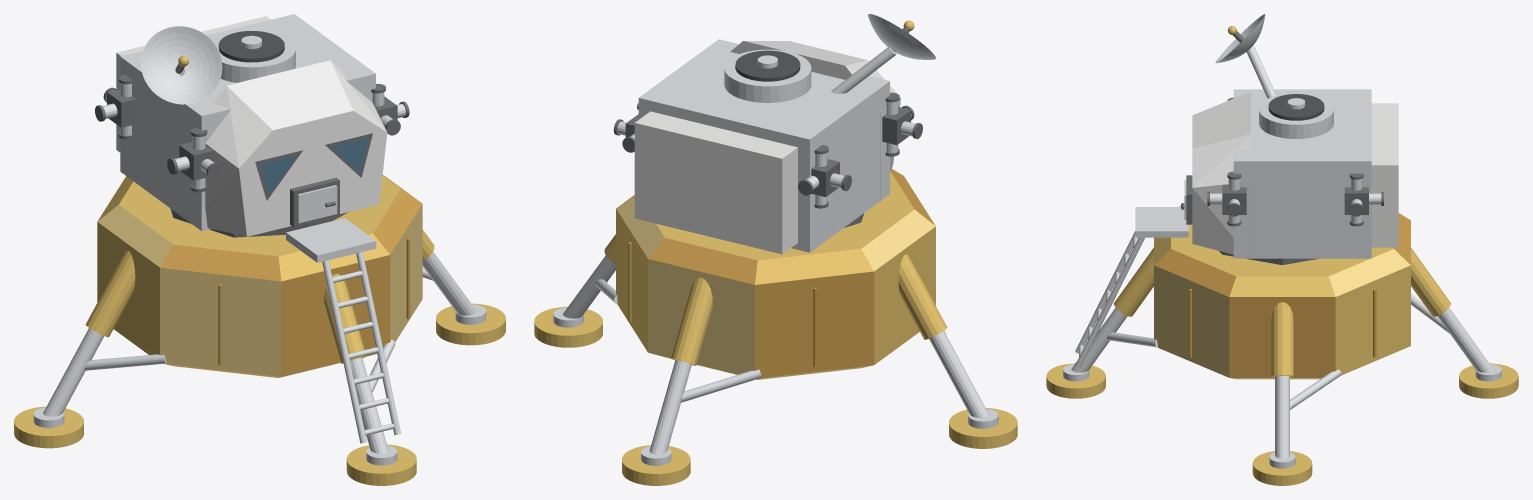
The model's file is apollo-11.glb.
3 views of the same model, side by side, from view 1: azimuth 30°, elevation 25°; view 2: azimuth 150°, elevation 25°; view 3: azimuth 270°, elevation 25° (orthographic). The views are drawn at different scales.
Parts seen in each view (by area): view 1: crew_cabin, ascent_main, descent_foil_1_6, descent_foil_1_7, s_band_dish, descent_foil_1_5, descent_foil_1_0, descent_foil_2_6, egress_platform, leg_sleeve_3, footpad_0, descent_foil_2_5 (+25 smaller); view 2: ascent_main, equipment_rear, descent_foil_1_4, descent_foil_1_3, descent_foil_1_5, descent_foil_1_2, descent_foil_2_4, descent_foil_2_3, docking_collar, crew_cabin, leg_sleeve_2, leg_sleeve_3 (+19 smaller); view 3: ascent_main, descent_foil_1_1, crew_cabin, descent_foil_1_0, descent_foil_1_2, equipment_rear, descent_foil_2_1, docking_collar, descent_foil_2_0, descent_foil_2_2, leg_sleeve_1, egress_platform (+20 smaller).
Boxes of the visible parts, box(x1,y1,x2,y2) form: crew_cabin: box(191, 60, 387, 236); ascent_main: box(120, 14, 375, 230); descent_foil_1_6: box(160, 267, 281, 376); descent_foil_1_7: box(281, 255, 390, 376); s_band_dish: box(141, 26, 222, 104); descent_foil_1_5: box(97, 222, 159, 354); descent_foil_1_0: box(390, 204, 422, 342); descent_foil_2_6: box(160, 244, 281, 281); egress_platform: box(286, 218, 376, 262); leg_sleeve_3: box(85, 250, 135, 337); footpad_0: box(346, 444, 416, 485); descent_foil_2_5: box(97, 205, 172, 267); ascent_main: box(638, 39, 889, 252); equipment_rear: box(634, 111, 797, 254); descent_foil_1_4: box(755, 271, 874, 377); descent_foil_1_3: box(648, 259, 754, 374); descent_foil_1_5: box(874, 226, 935, 364); descent_foil_1_2: box(616, 209, 647, 351); descent_foil_2_4: box(755, 248, 873, 284); descent_foil_2_3: box(648, 238, 757, 284); docking_collar: box(724, 49, 811, 102); crew_cabin: box(730, 41, 900, 201); leg_sleeve_2: box(671, 277, 712, 365); leg_sleeve_3: box(898, 254, 947, 339); ascent_main: box(1233, 89, 1371, 258); descent_foil_1_1: box(1229, 297, 1335, 377); crew_cabin: box(1192, 91, 1250, 258); descent_foil_1_0: box(1154, 265, 1229, 377); descent_foil_1_2: box(1335, 265, 1410, 375); equipment_rear: box(1371, 103, 1398, 247); descent_foil_2_1: box(1229, 276, 1335, 296); docking_collar: box(1259, 93, 1333, 138); descent_foil_2_0: box(1154, 249, 1236, 296); descent_foil_2_2: box(1328, 249, 1410, 296); leg_sleeve_1: box(1271, 302, 1293, 377); egress_platform: box(1135, 207, 1188, 237).
Bounding box in the file's own units: 5.4 × 4.14 × 5.4.
